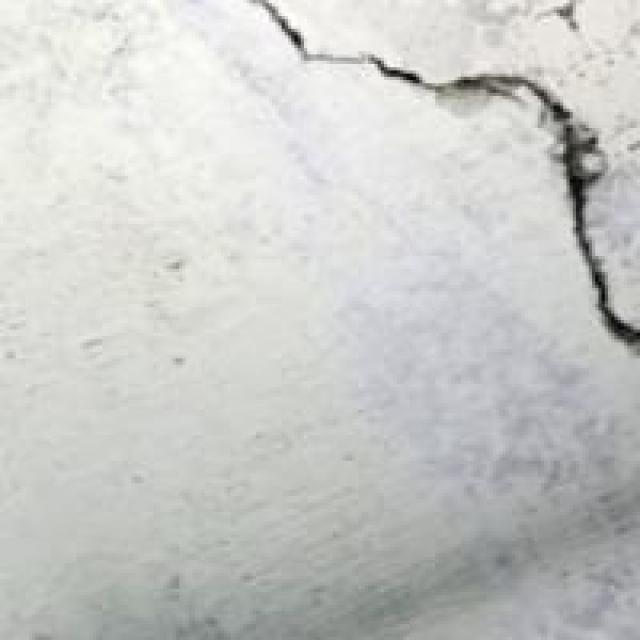Crack: (240, 0, 637, 352)
